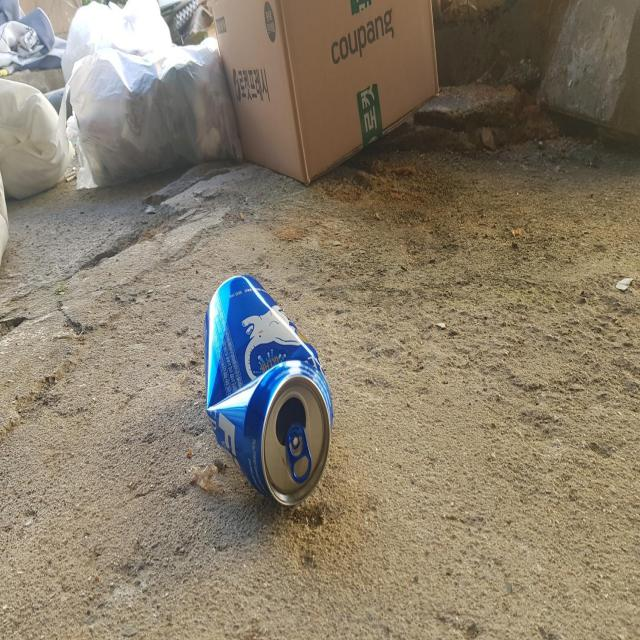can: (204, 274, 333, 505)
